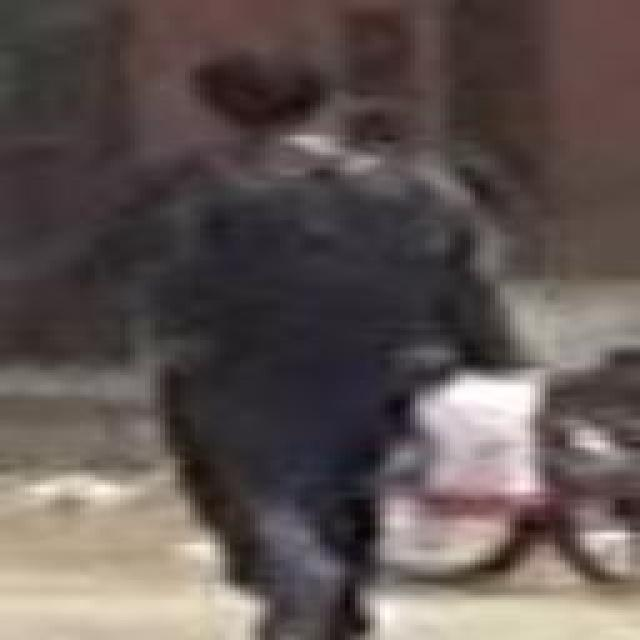adult: (103, 59, 487, 640)
